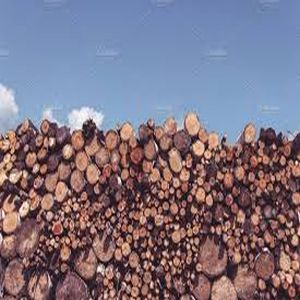log: (196, 232, 232, 280), (54, 269, 95, 300), (89, 228, 119, 262), (14, 220, 39, 257), (70, 245, 98, 277), (24, 268, 51, 300), (5, 259, 27, 297), (253, 249, 274, 283), (235, 268, 257, 300), (211, 277, 235, 300), (183, 111, 202, 138), (1, 235, 19, 262), (83, 130, 101, 155), (170, 128, 188, 153), (68, 168, 83, 196), (68, 129, 86, 151), (84, 162, 99, 188), (118, 121, 135, 143), (103, 130, 120, 151), (143, 139, 158, 162), (162, 116, 179, 136), (43, 172, 59, 193), (168, 153, 185, 172), (74, 152, 90, 172), (242, 124, 257, 145), (55, 125, 71, 144), (3, 213, 19, 232), (40, 192, 56, 209), (238, 190, 252, 209), (130, 146, 144, 164), (61, 160, 72, 182), (55, 181, 67, 201), (15, 202, 31, 217), (156, 136, 172, 151), (50, 222, 65, 238), (46, 153, 59, 171), (95, 148, 108, 166), (208, 132, 221, 150), (128, 251, 141, 269), (192, 139, 204, 158), (222, 172, 235, 189), (119, 241, 132, 258), (233, 165, 245, 183), (139, 126, 153, 141), (58, 246, 72, 261), (9, 168, 22, 184), (152, 125, 164, 141), (178, 166, 190, 182), (288, 232, 300, 248), (62, 143, 73, 160), (198, 129, 211, 143), (24, 152, 36, 167), (194, 186, 206, 201), (270, 272, 281, 288), (236, 208, 247, 223), (40, 119, 50, 135), (32, 175, 44, 188), (99, 164, 111, 177), (140, 160, 153, 172), (169, 176, 181, 189), (169, 203, 180, 217), (257, 278, 267, 293), (36, 147, 48, 159), (188, 203, 200, 215), (33, 134, 44, 147), (43, 209, 53, 223), (31, 162, 40, 177), (214, 169, 226, 180), (248, 155, 258, 168), (142, 271, 152, 284), (105, 268, 115, 281), (171, 230, 181, 243), (204, 194, 213, 208), (256, 235, 265, 249), (120, 168, 130, 180), (153, 214, 163, 226), (290, 193, 300, 205), (139, 284, 148, 297), (139, 215, 148, 228), (120, 142, 128, 156), (225, 192, 232, 208), (249, 170, 257, 184), (138, 227, 146, 241), (203, 148, 213, 159), (195, 176, 205, 187), (143, 207, 153, 218), (108, 288, 117, 300), (160, 179, 169, 190), (2, 151, 10, 163), (131, 274, 139, 286), (212, 153, 221, 163), (173, 257, 182, 267), (130, 287, 139, 297), (116, 202, 125, 212), (194, 262, 202, 273), (40, 163, 47, 175), (250, 214, 259, 223), (278, 156, 286, 166), (284, 145, 292, 155), (124, 272, 132, 282), (157, 188, 164, 199), (257, 147, 265, 156), (262, 155, 270, 164), (257, 171, 265, 180), (193, 225, 199, 237), (217, 191, 224, 201), (179, 208, 186, 218), (185, 255, 192, 265), (219, 149, 226, 158), (210, 176, 217, 185), (163, 201, 169, 211), (180, 199, 186, 209), (49, 237, 55, 245)
